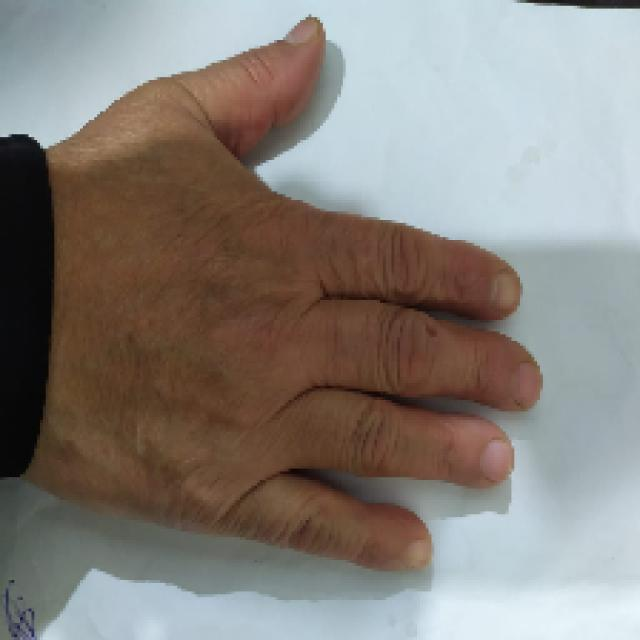Nail: (479, 439, 514, 482), (511, 361, 541, 407), (490, 271, 520, 314), (284, 16, 322, 44), (404, 539, 431, 569)
